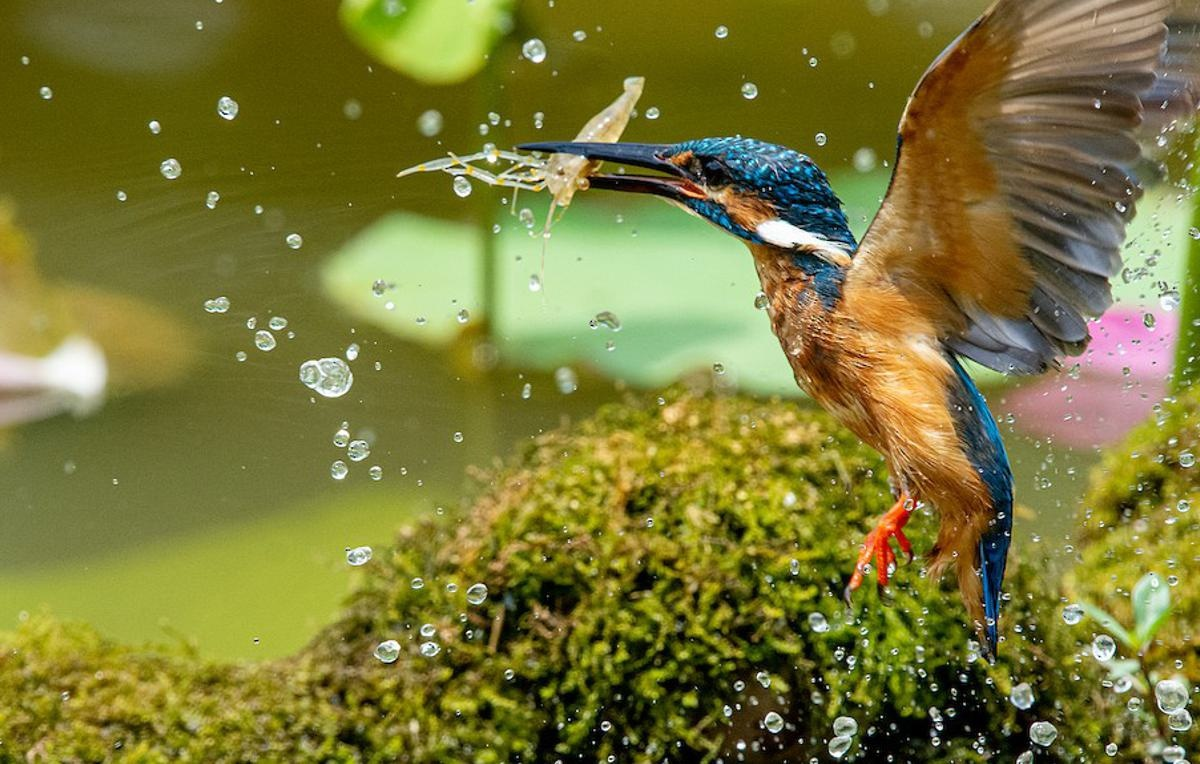kingfisher: (516, 7, 1200, 670)
